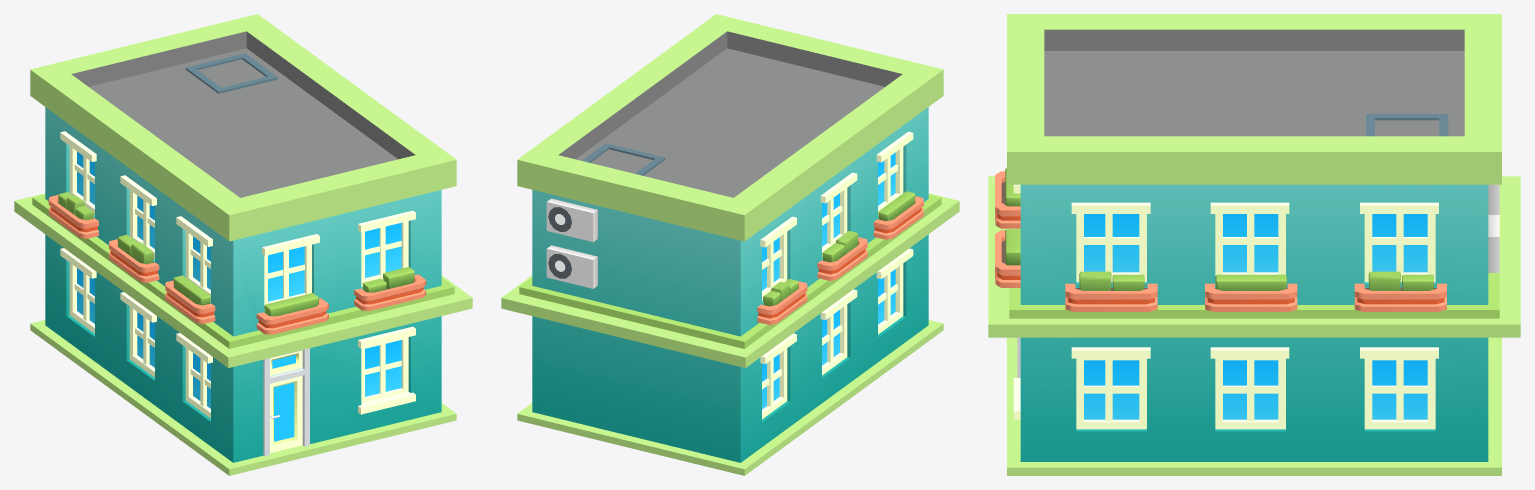
The model's file is city2-building-living-05.glb.
The picture shows the model from 3 angles, left to right: view 1: azimuth 30°, elevation 25°; view 2: azimuth 150°, elevation 25°; view 3: azimuth 270°, elevation 25°; orthographic projection. The views are drawn at different scales.
Parts seen in each view (by area): view 1: Building_Living_05; view 2: Building_Living_05; view 3: Building_Living_05.
Boxes of the visible parts, x1=… form: Building_Living_05: x1=14, y1=14, x2=472, y2=475; Building_Living_05: x1=501, y1=14, x2=959, y2=475; Building_Living_05: x1=988, y1=14, x2=1520, y2=475.
Bounding box in the file's own units: 7.69 × 7.83 × 11.65.
Materials: 1 (1 with a texture image).
